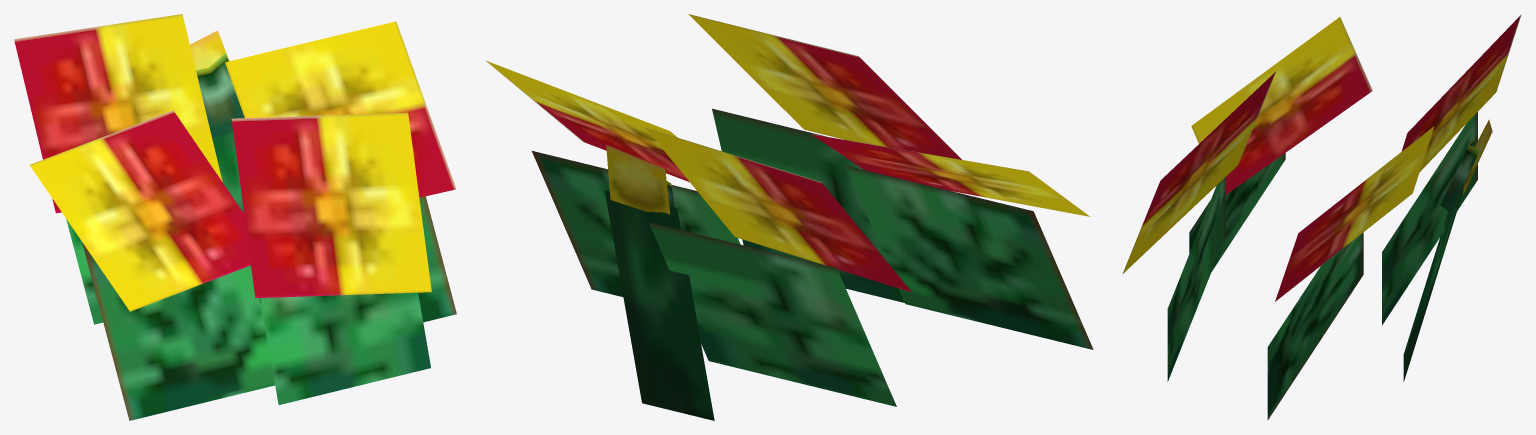
Rendered from flw_cosmos_ye.dae.
3 views of the same model, side by side, from view 1: azimuth 30°, elevation 25°; view 2: azimuth 150°, elevation 25°; view 3: azimuth 270°, elevation 25° (orthographic). The views are drawn at different scales.
Parts seen in each view (by area): view 1: flw_cosmos_ye; view 2: flw_cosmos_ye; view 3: flw_cosmos_ye.
Boxes of the visible parts, box(x1,y1,x2,y2) form: flw_cosmos_ye: box(14, 14, 456, 420); flw_cosmos_ye: box(485, 14, 1093, 420); flw_cosmos_ye: box(1122, 14, 1521, 420).
Size of the model in its own units: 32.21 by 20.79 by 27.9.
Materials: 1 (1 with a texture image).
